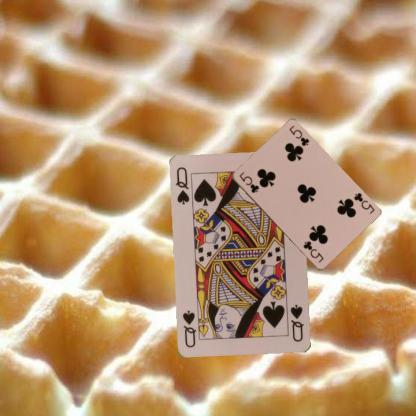5c: (351, 190, 376, 215), (236, 169, 260, 194)
Qs: (173, 165, 191, 206), (288, 302, 305, 343)
